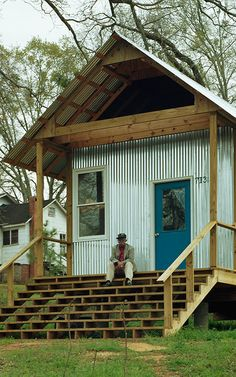Tin-shade House: (6, 31, 234, 332)
